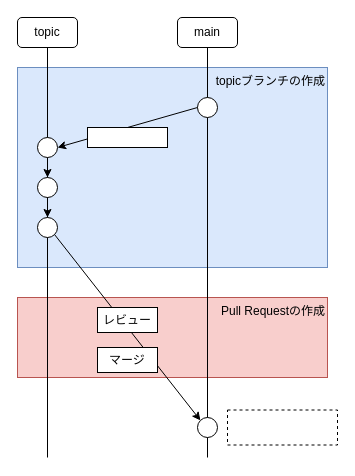
The diagram is 355 pixels wide and 476 high, and some of its shapes have lost their labels. The shapes that lost their labels are listed below. From the top down, each one's centre as x and y in pixels, then its label:
At pixel 127 137: "ブランチ作成".
At pixel 282 427: "ただちにデプロイ".
